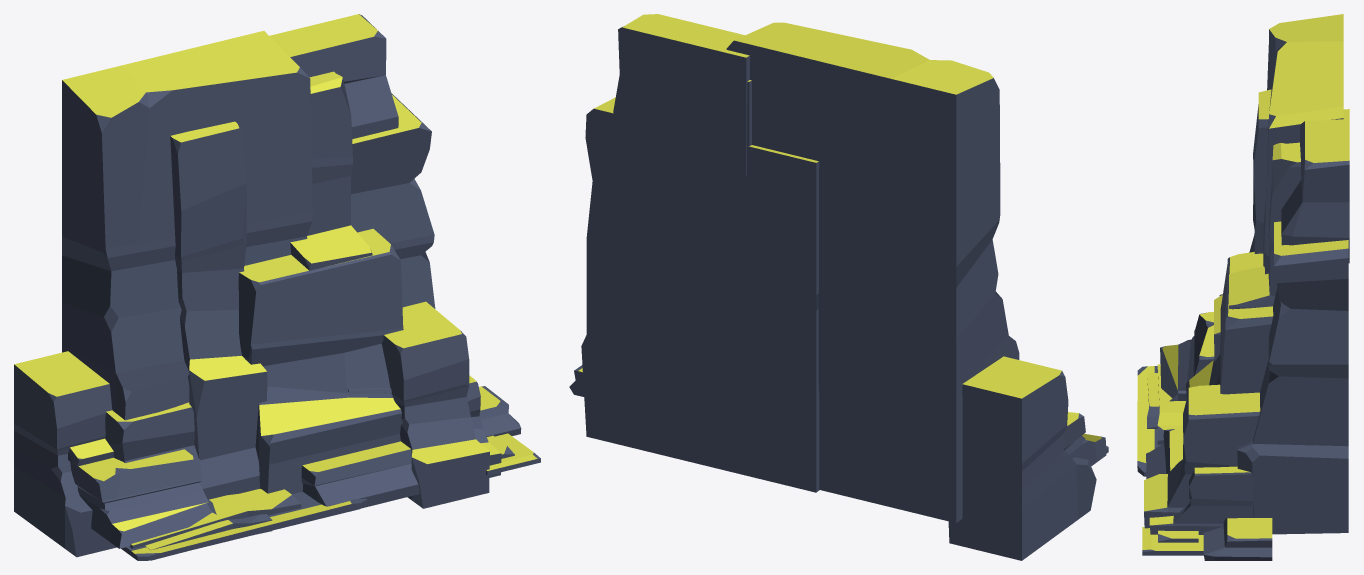
Rendered from cliff.glb.
3 views of the same model, side by side, from view 1: azimuth 30°, elevation 25°; view 2: azimuth 150°, elevation 25°; view 3: azimuth 270°, elevation 25° (orthographic). The views are drawn at different scales.
Visible parts, largest first — view 1: Cube.030; view 2: Cube.030; view 3: Cube.030.
Part boxes in pixels (x1=…): Cube.030: x1=14, y1=14, x2=540, y2=560; Cube.030: x1=569, y1=14, x2=1108, y2=560; Cube.030: x1=1137, y1=14, x2=1349, y2=560.
Size of the model in its own units: 10.16 by 8.98 by 4.44.
